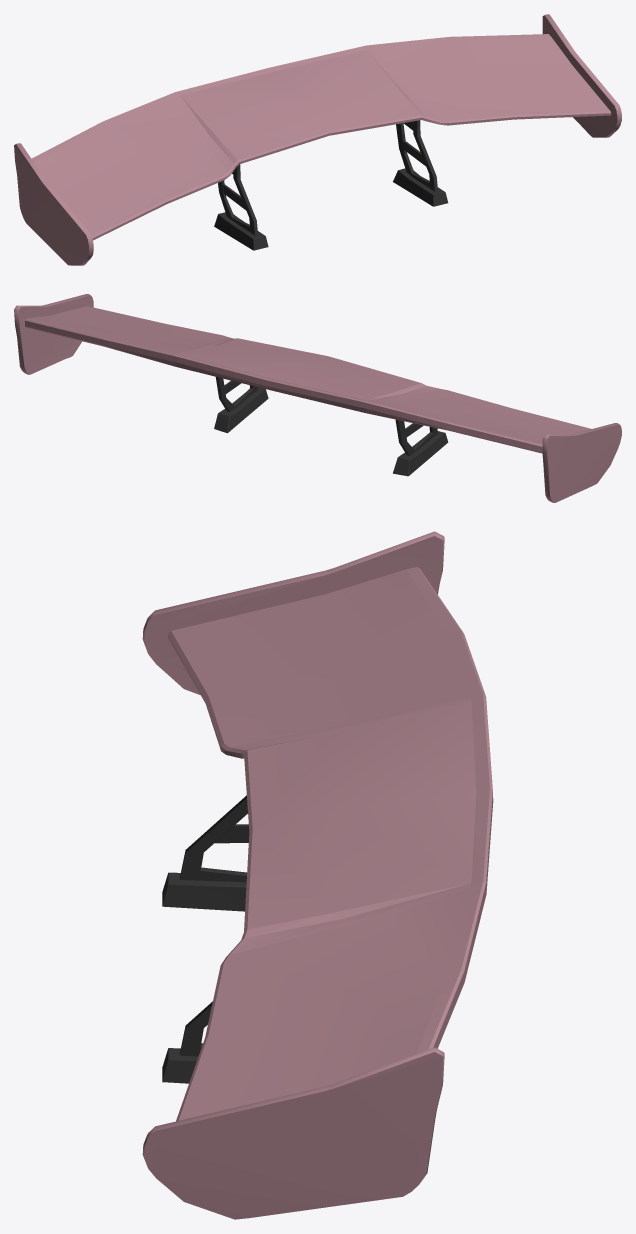
3 views of the same model, one above another, from view 1: azimuth 30°, elevation 25°; view 2: azimuth 150°, elevation 25°; view 3: azimuth 270°, elevation 25° (orthographic). The views are drawn at different scales.
Parts seen in each view (by area): view 1: sp1; view 2: sp1; view 3: sp1.
Boxes of the visible parts, x1,y1,x2,y2 form: sp1: (14, 14, 621, 265); sp1: (14, 294, 621, 502); sp1: (142, 531, 493, 1219).
Bounding box in the file's own units: 1.54 × 0.2871 × 0.4374.
